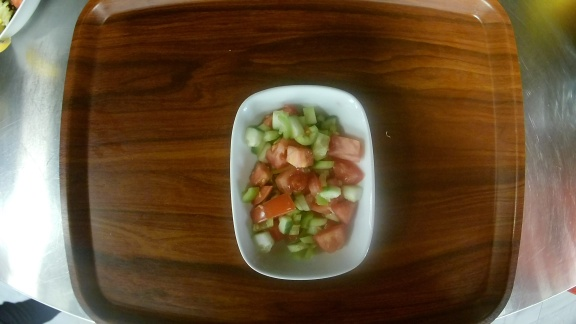cobansalata: (230, 85, 375, 281)
